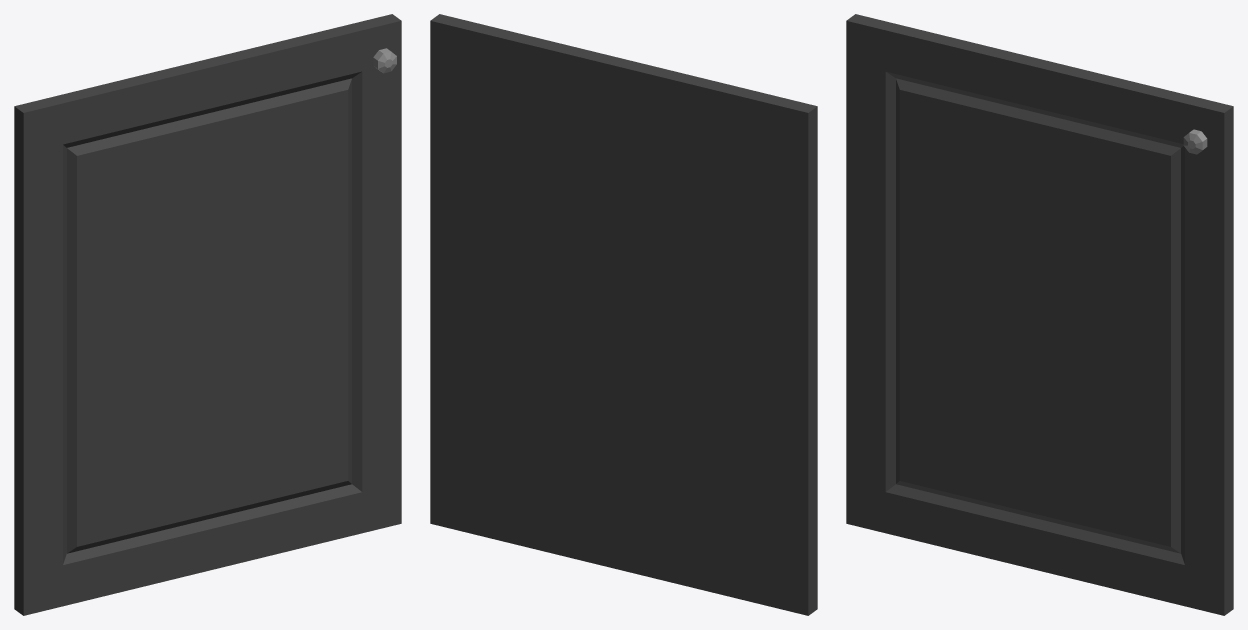
The model's file is Door3_C3_02.fbx.
3 views of the same model, side by side, from view 1: azimuth 30°, elevation 25°; view 2: azimuth 150°, elevation 25°; view 3: azimuth 330°, elevation 25° (orthographic).
Parts seen in each view (by area): view 1: Door3_C3_02; view 2: Door3_C3_02; view 3: Door3_C3_02.
Boxes of the visible parts, <box> form: Door3_C3_02: <box>14,14,401,615</box>; Door3_C3_02: <box>430,14,817,615</box>; Door3_C3_02: <box>846,14,1233,615</box>.
Bounding box in the file's own units: 59 × 75 × 5.19.
